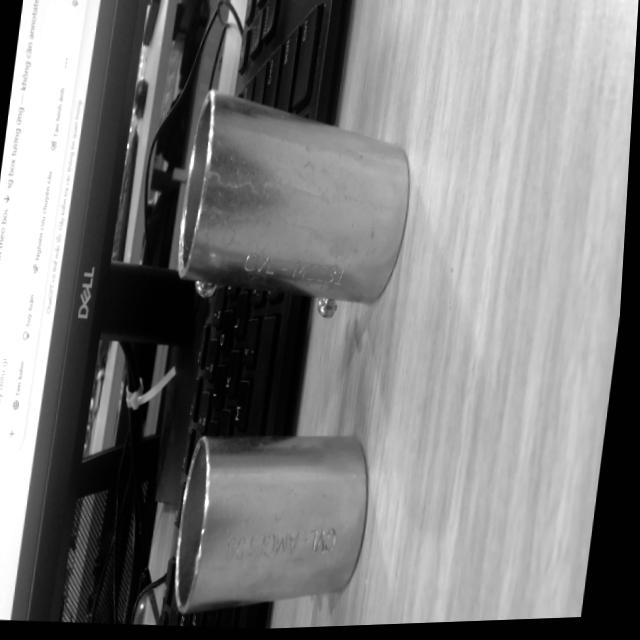Co_Lon: (146, 86, 426, 349)
Co_Nho: (174, 436, 366, 614)
